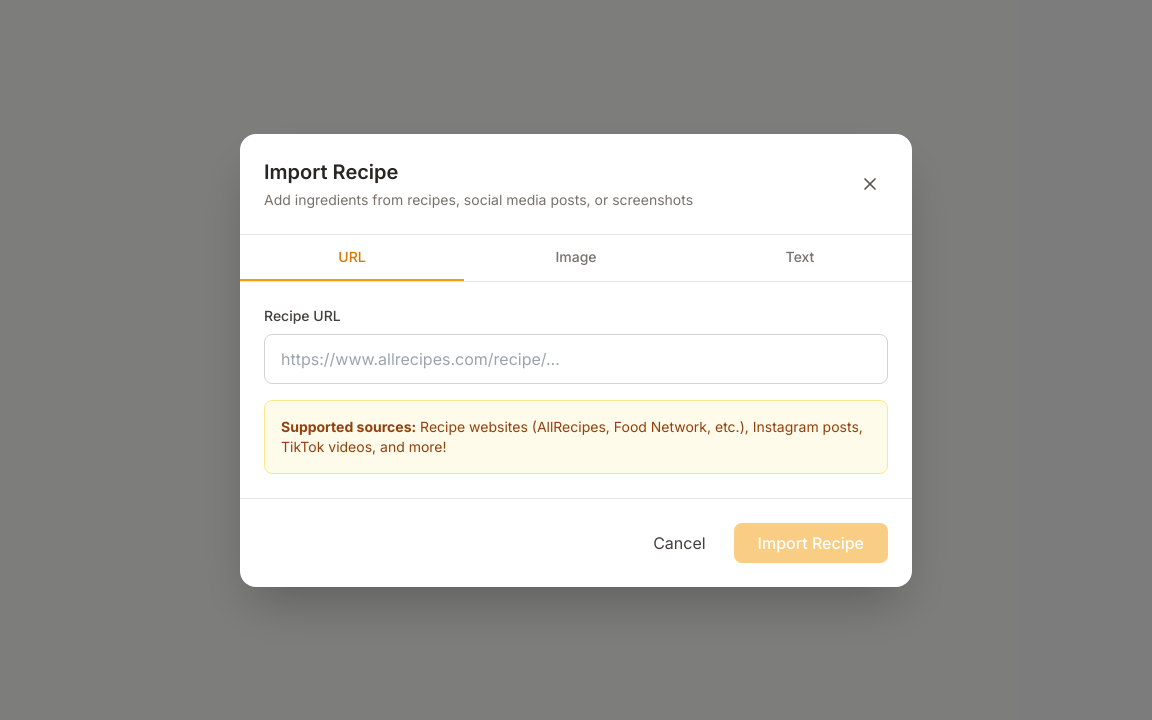
Test: RecipeImportModal › should display tip for Text tab
The width and height of the screenshot is (1152, 720).
Click the button "Text".
click(800, 258)  # box [688,234,912,280]
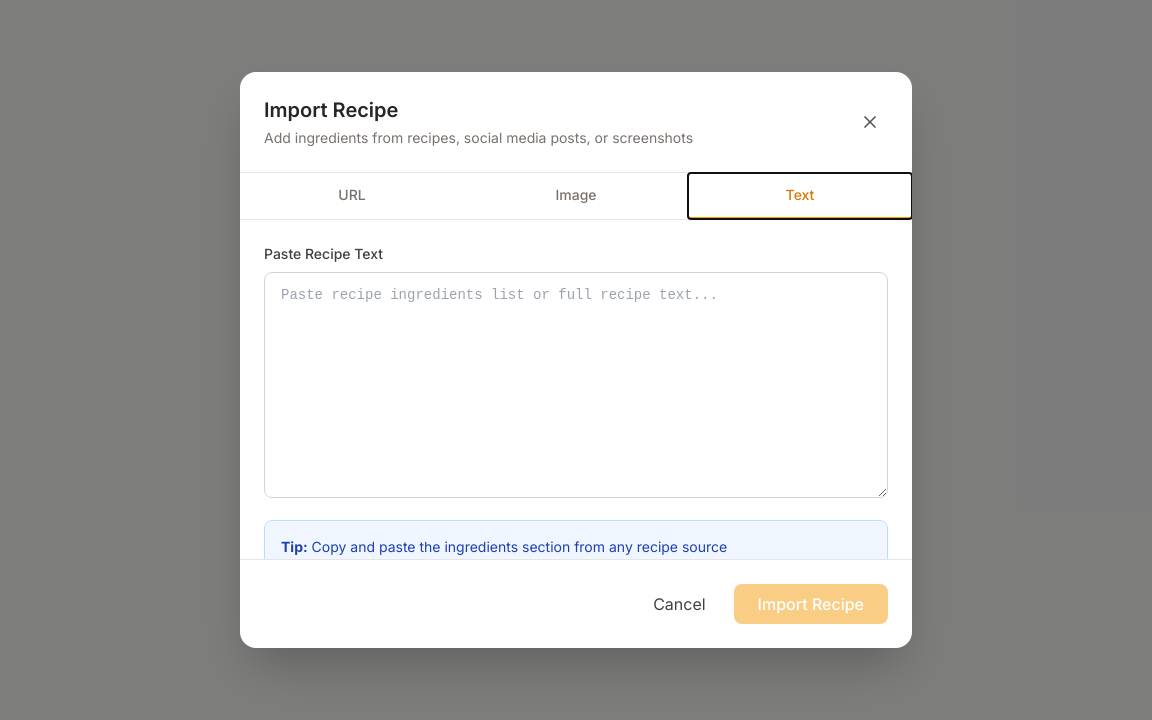
expect the text "Tip:" is shown: met, box [281,538,308,555]
expect the text "Copy and paste the ingredients section" is shown: met, box [308,538,727,555]
